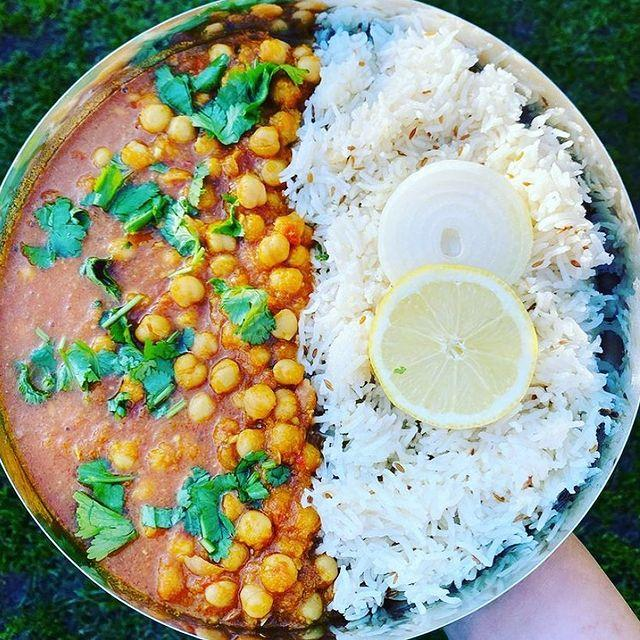Chole: (121, 180, 318, 626)
